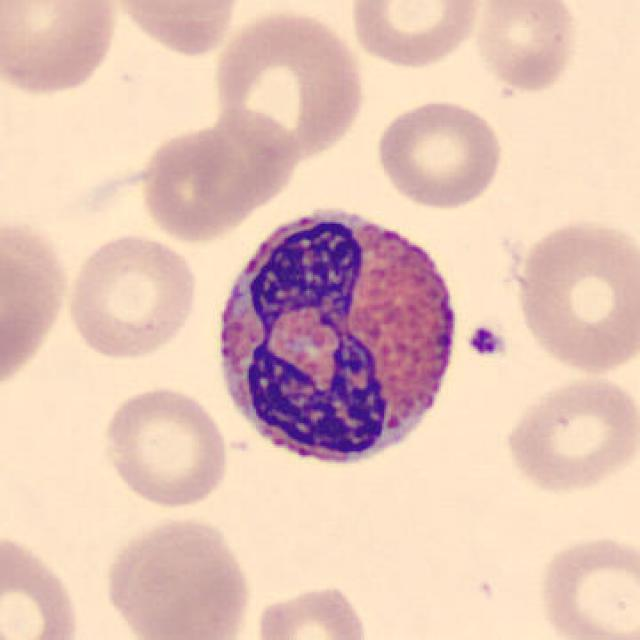Eosinophil: (202, 190, 468, 485)
Platelets: (464, 322, 508, 360)
RBC: (208, 3, 368, 164), (507, 212, 638, 379), (100, 511, 256, 640), (61, 229, 202, 363), (98, 381, 233, 511), (500, 372, 638, 497), (372, 95, 506, 212), (135, 120, 260, 245), (0, 208, 73, 400), (0, 0, 122, 102), (533, 530, 638, 640), (471, 0, 581, 95), (345, 0, 487, 71), (0, 527, 84, 640), (103, 0, 245, 58), (251, 580, 373, 640)
